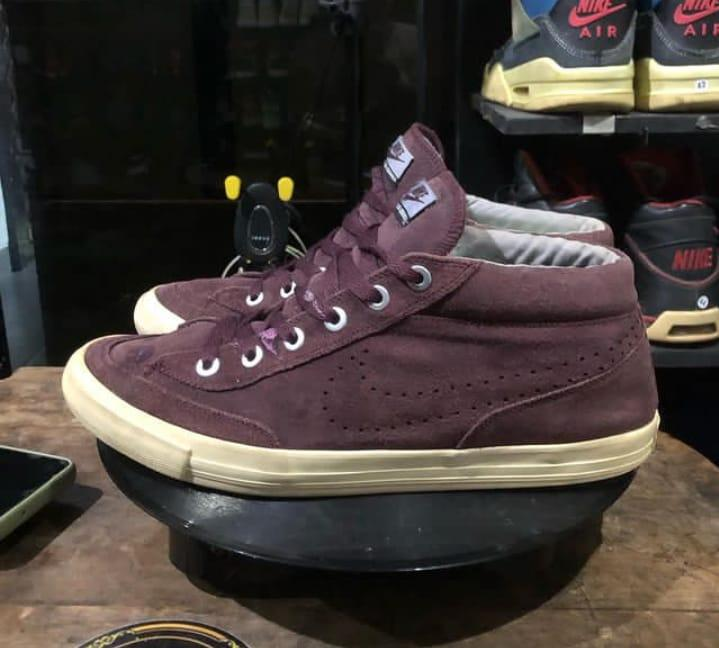shoe: (55, 170, 669, 493)
